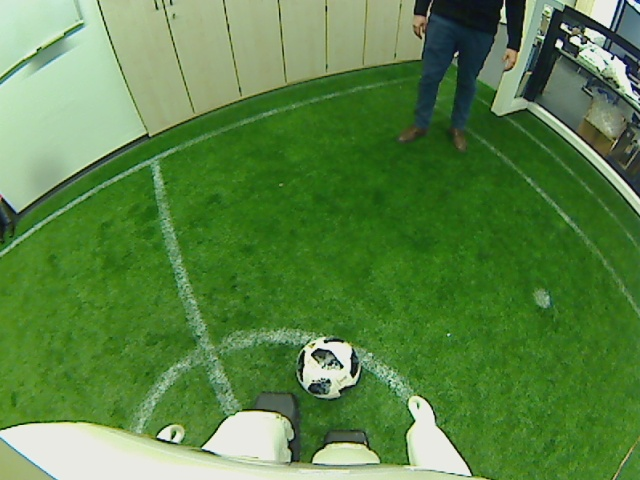ball: (295, 335, 362, 400)
